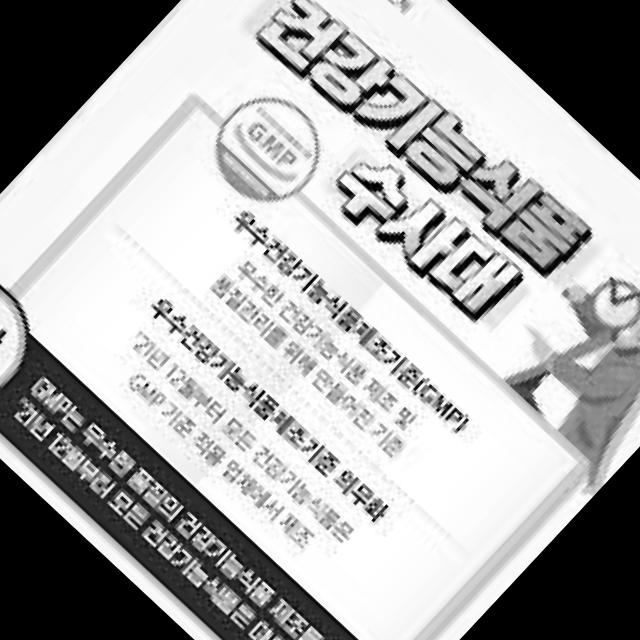GMP: (193, 77, 341, 225)
